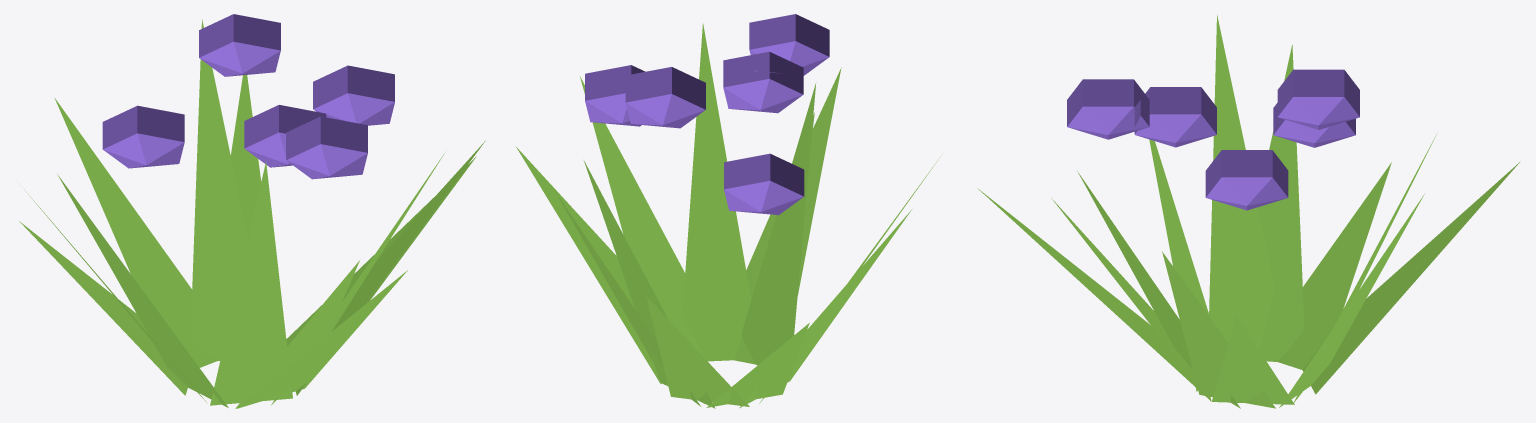
3 renders of one model, left to right at view 1: azimuth 30°, elevation 25°; view 2: azimuth 150°, elevation 25°; view 3: azimuth 270°, elevation 25°, orthographic. The views are drawn at different scales.
Visible parts, largest first — view 1: flowers-violet; view 2: flowers-violet; view 3: flowers-violet.
Part boxes in pixels (x1,y1,x2,y2): flowers-violet: [19, 14, 485, 408]; flowers-violet: [516, 14, 941, 408]; flowers-violet: [977, 15, 1520, 408].
Size of the model in its own units: 0.5916 by 0.4319 by 0.6535.
